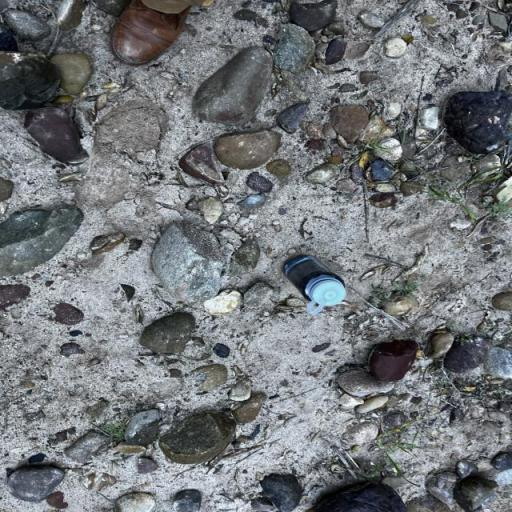bottle: (283, 254, 347, 315)
